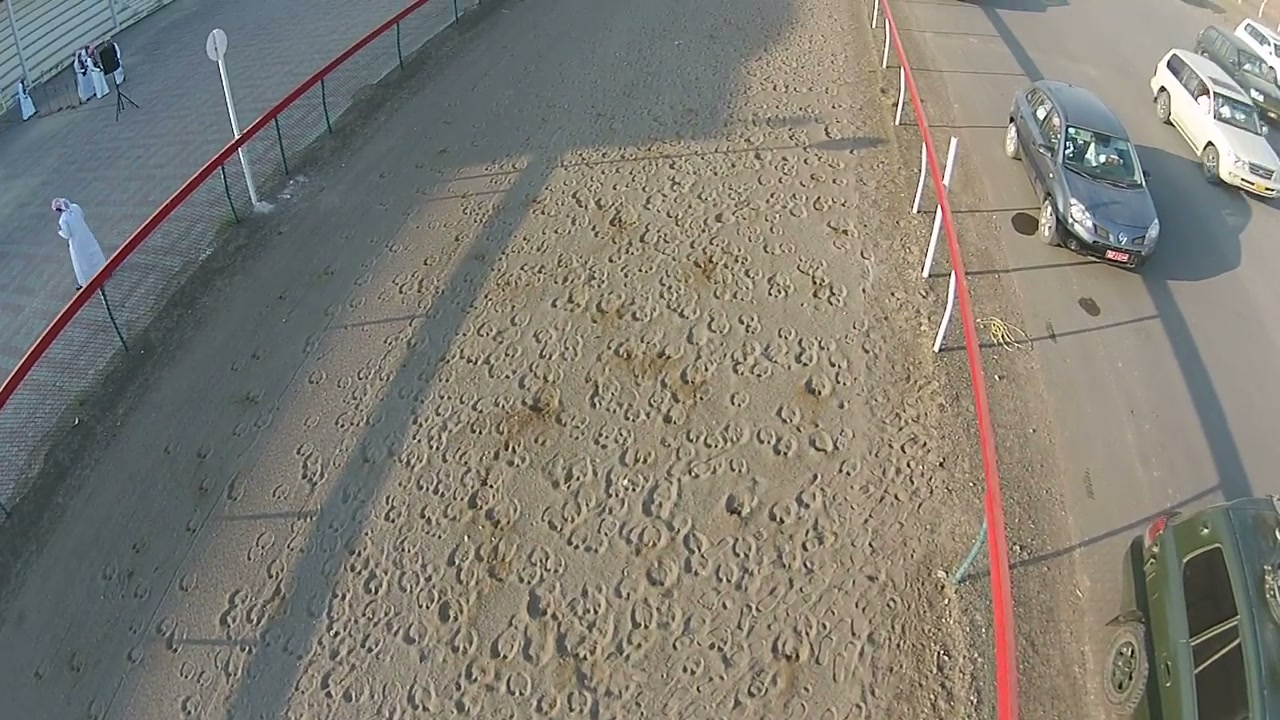animal_footprint: (124, 0, 975, 719)
